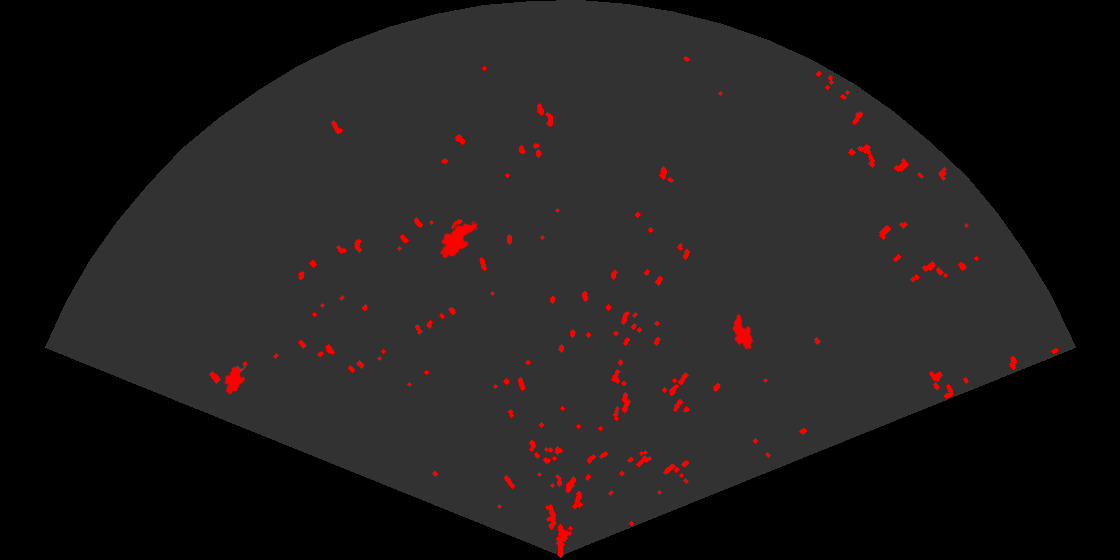AUV: (438, 221, 479, 260), (223, 360, 249, 396), (731, 312, 755, 351)
